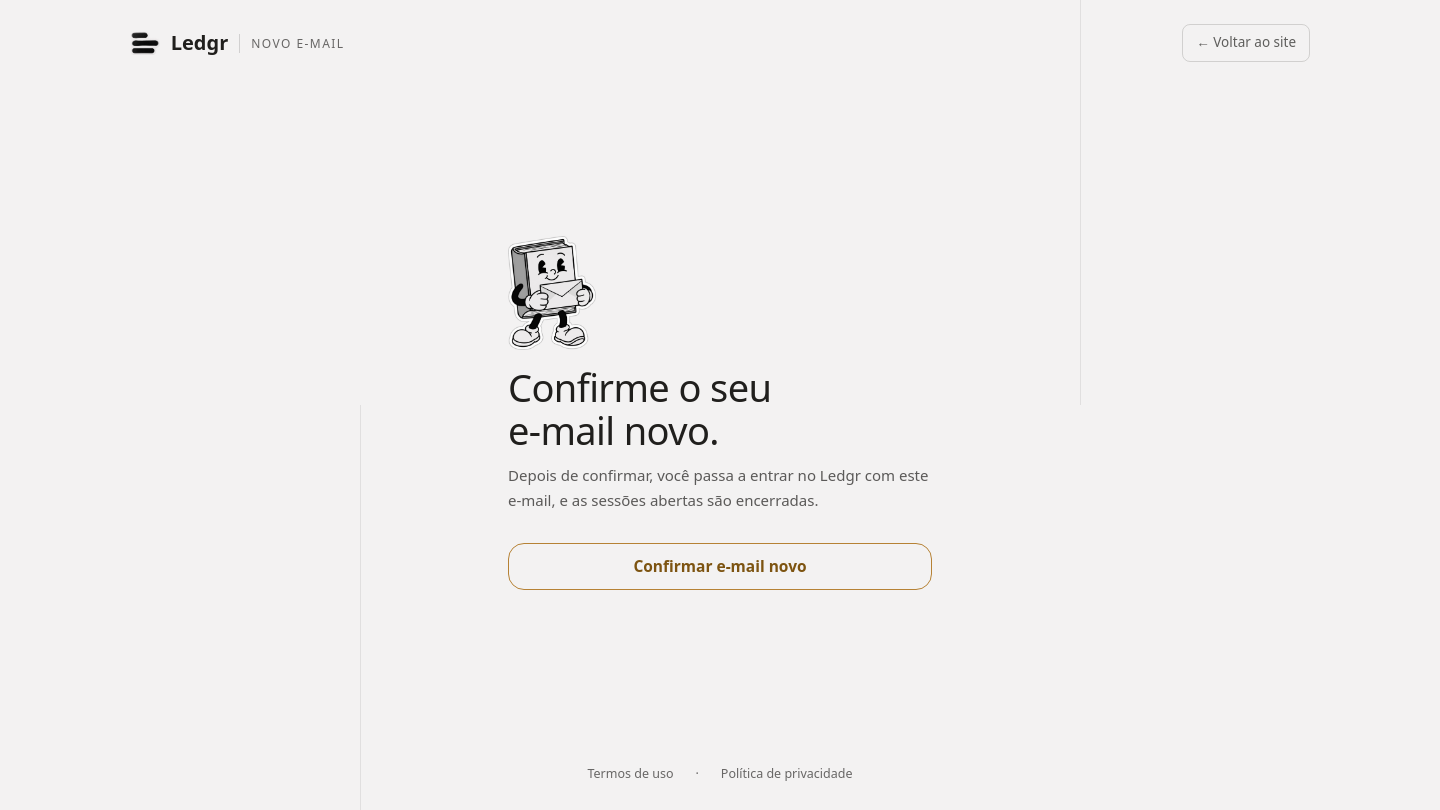
Test: ConfirmarEmailPage › explica a recusa email_em_uso
Click the button "Confirmar e-mail novo": (720, 566) left=508, top=543, right=932, bottom=590
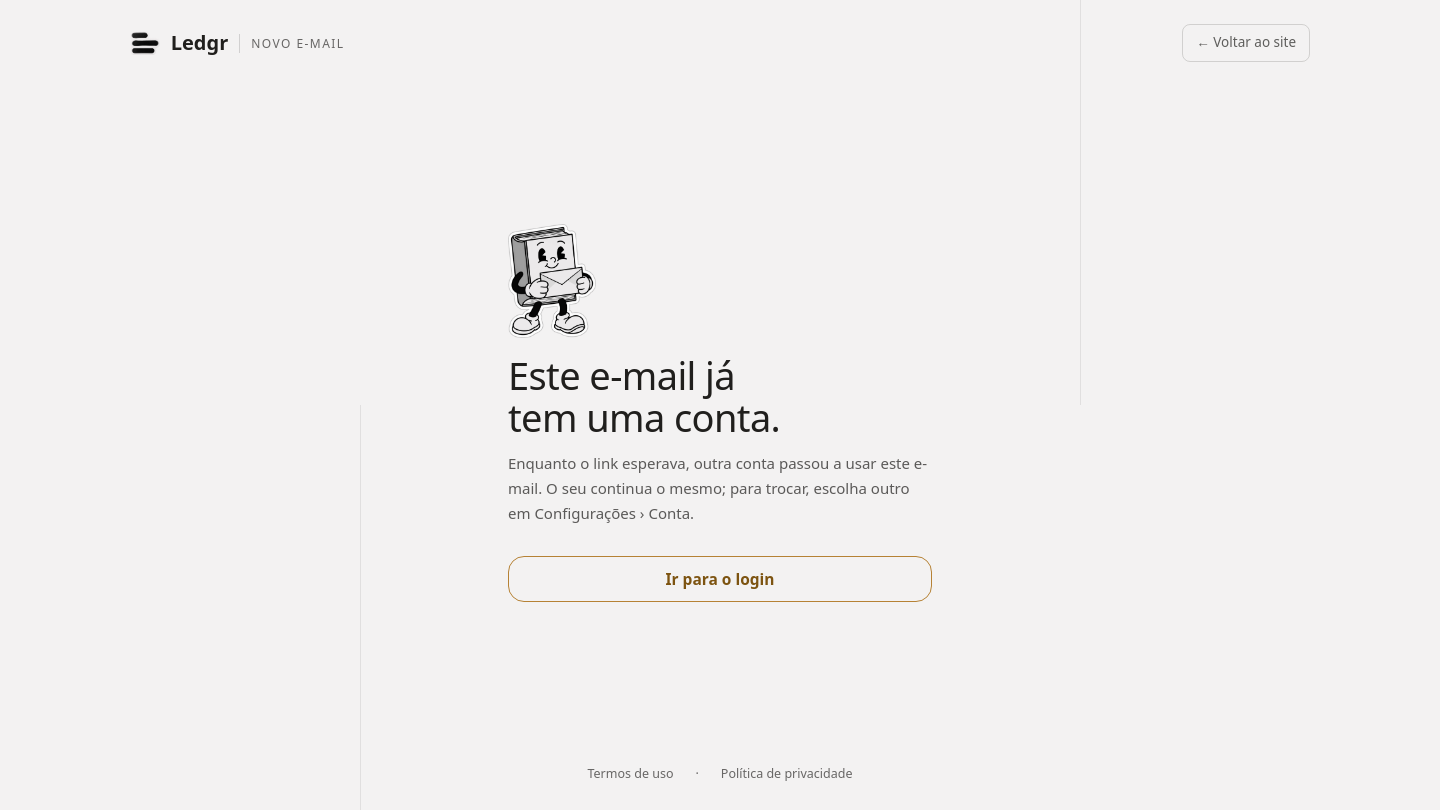
Result: the heading "Este e-mail já tem uma conta." is shown at left=508, top=349, right=780, bottom=443
